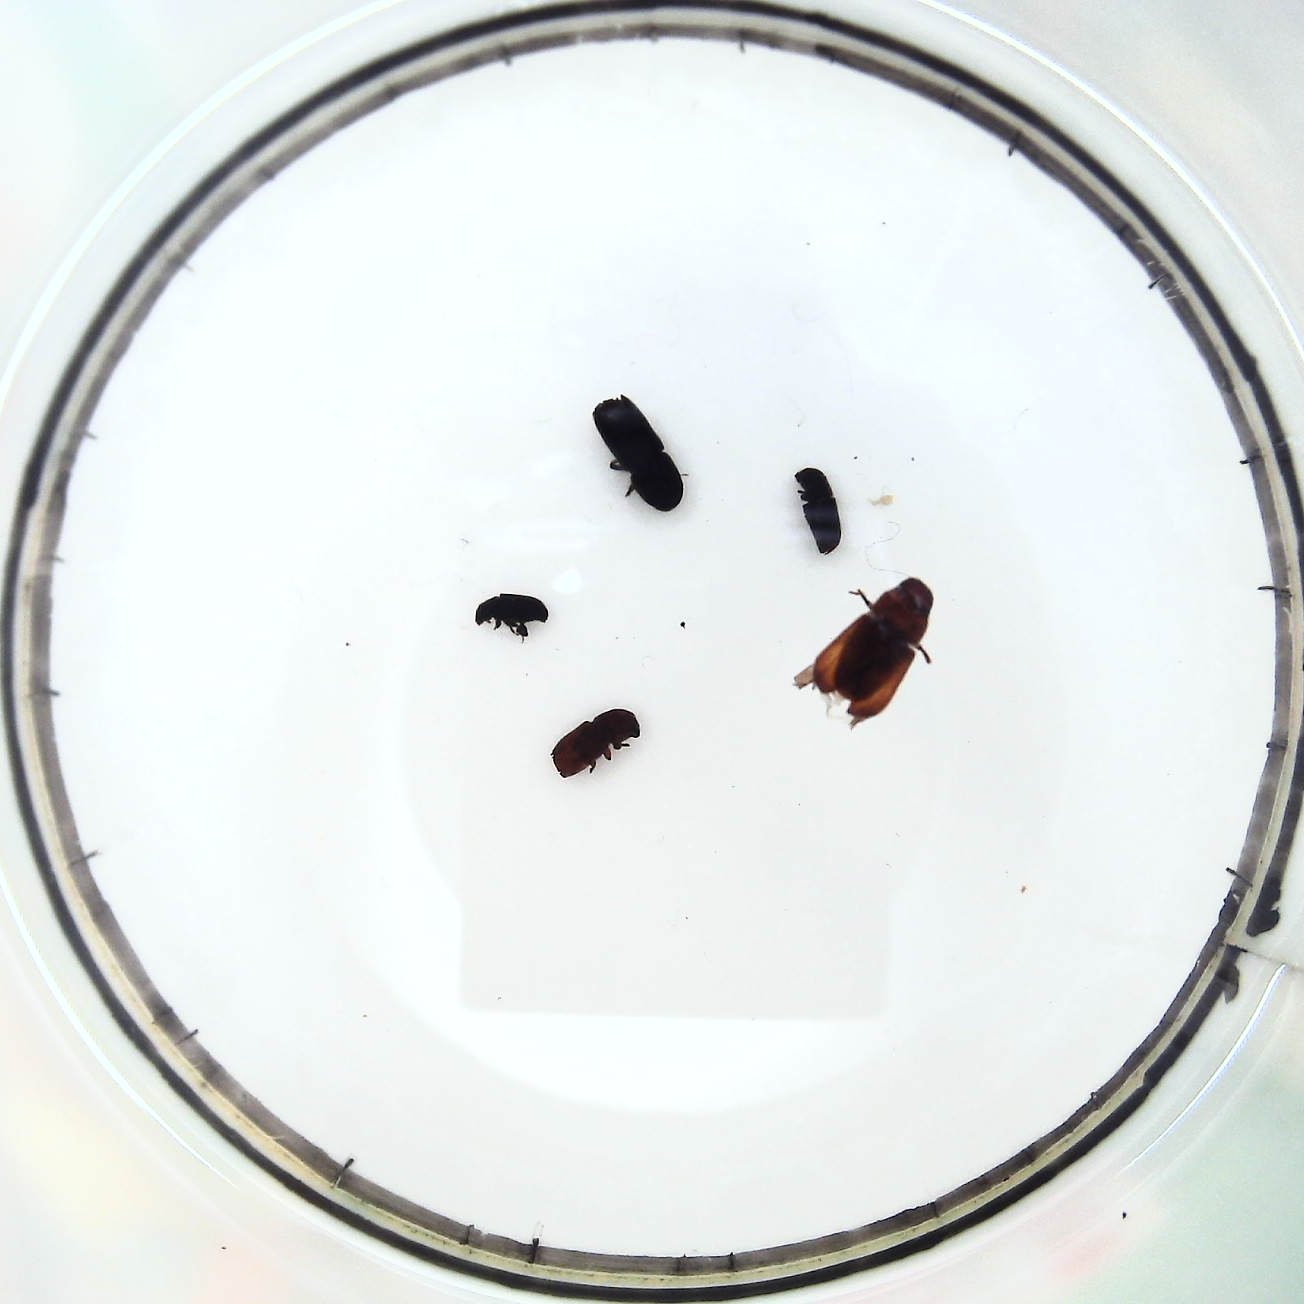Boerner: (590, 395, 682, 512)
Leconte: (796, 577, 931, 724)
Linnaeus: (547, 711, 641, 785)
armandi: (793, 465, 842, 554)
coleoptera: (469, 592, 548, 636)
